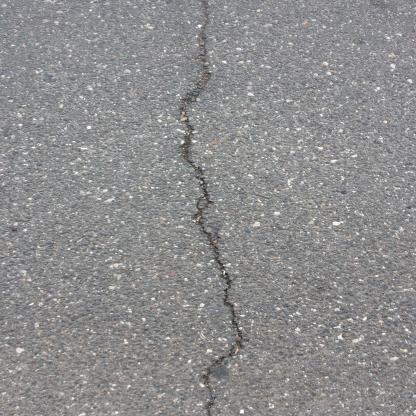Cracks: (174, 0, 247, 416)
